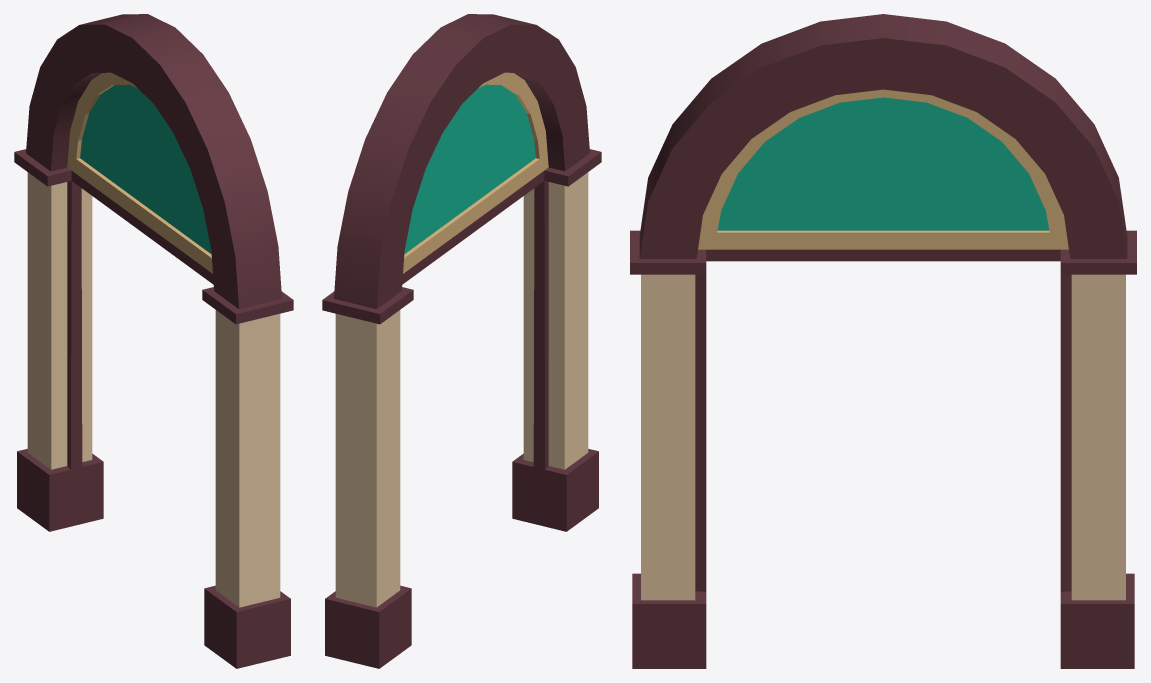
The model's file is arch.fbx.
The picture shows the model from 3 angles, left to right: view 1: azimuth 30°, elevation 25°; view 2: azimuth 150°, elevation 25°; view 3: azimuth 270°, elevation 25°; orthographic projection. The views are drawn at different scales.
Parts seen in each view (by area): view 1: Arch; view 2: Arch; view 3: Arch.
Part boxes in pixels (box(x1,y1,x2,y2)): Arch: box(14, 14, 293, 668); Arch: box(322, 14, 601, 668); Arch: box(630, 14, 1136, 668).
Bounding box in the file's own units: 53.27 × 483 × 353.
